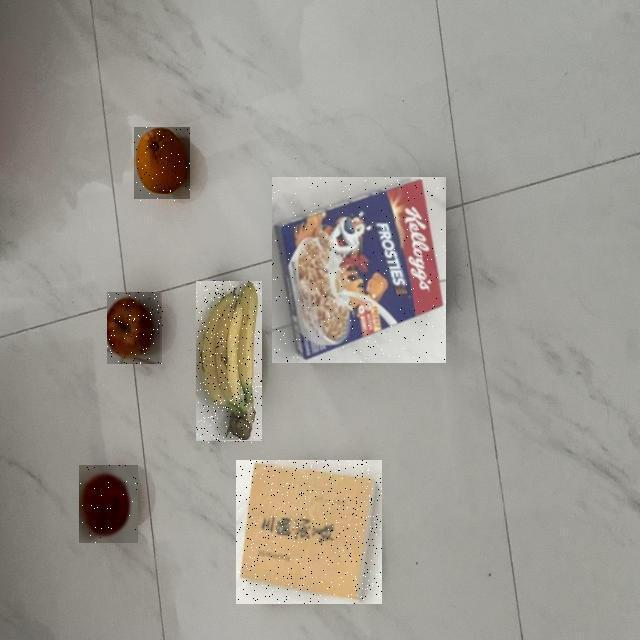Apple: (79, 465, 138, 543), (108, 293, 164, 365)
Banana: (197, 282, 263, 444)
Book: (236, 460, 382, 604)
Cereal: (272, 177, 446, 363)
Orange: (134, 128, 190, 202)
